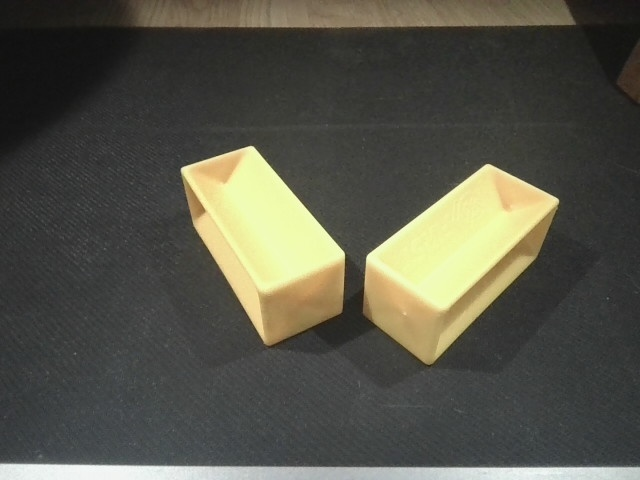YellowSample: (363, 162, 563, 367), (176, 144, 350, 347)
